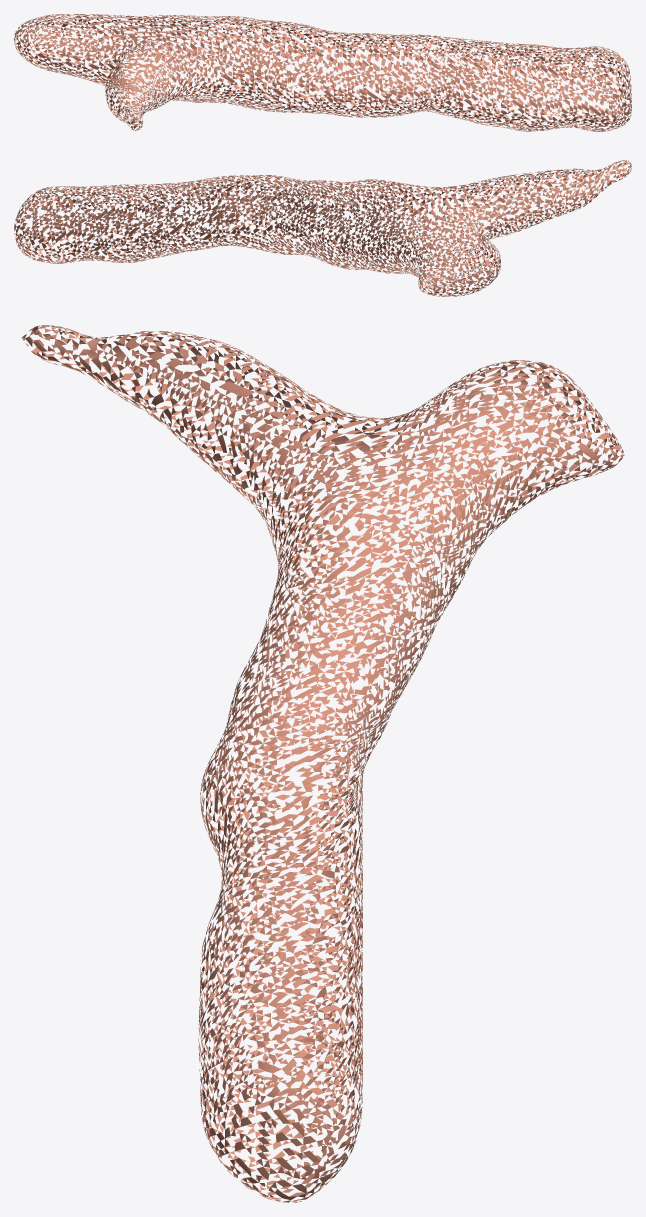
The model's file is morph_003.glb.
3 renders of one model, top to bottom at view 1: azimuth 30°, elevation 25°; view 2: azimuth 150°, elevation 25°; view 3: azimuth 270°, elevation 25°, orthographic. The views are drawn at different scales.
Bounding box in the file's own units: 106 × 34.99 × 50.64.
